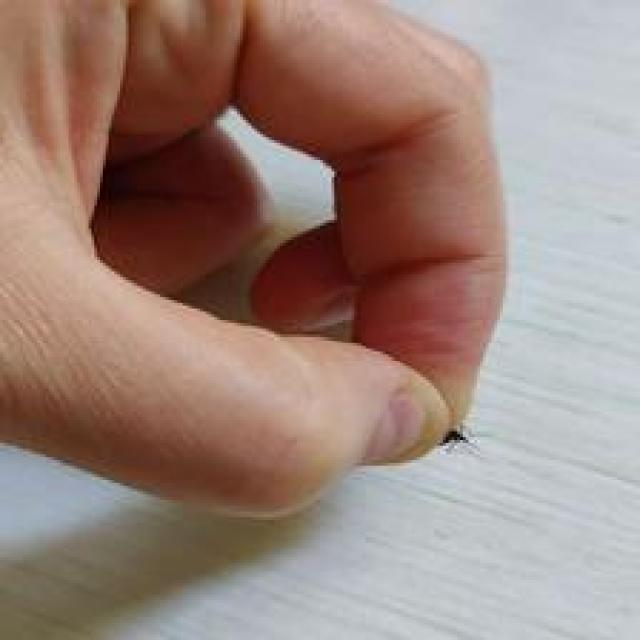Aedes albopictus: (437, 423, 480, 457)
